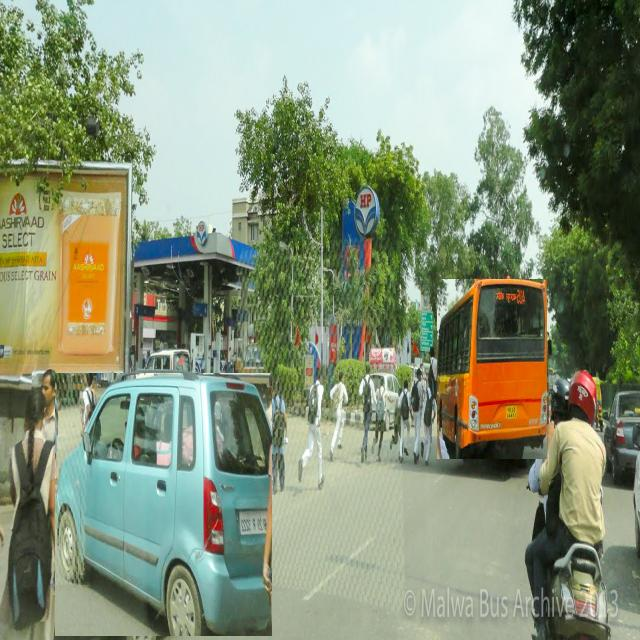bus: (438, 279, 547, 459)
car: (55, 374, 272, 636)
motorcycle: (525, 371, 610, 640)
